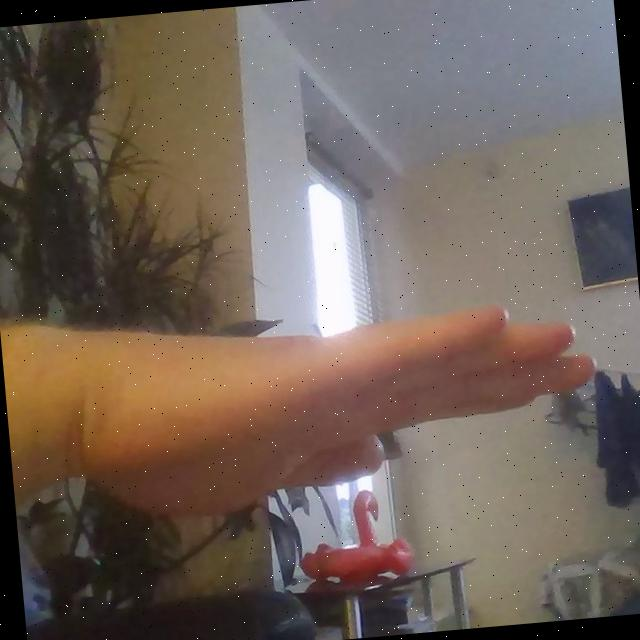papper: (75, 289, 608, 534)
